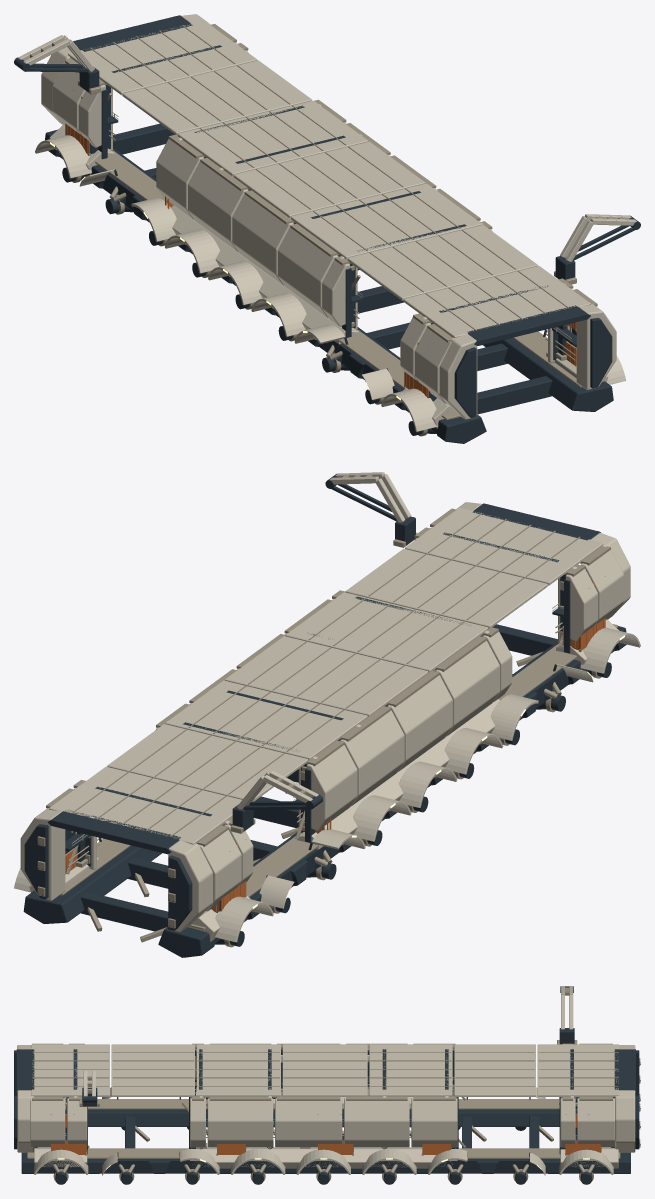
File: saltwind-gallery.glb
3 views of the same model, one above another, from view 1: azimuth 30°, elevation 25°; view 2: azimuth 150°, elevation 25°; view 3: azimuth 270°, elevation 25° (orthographic). The views are drawn at different scales.
Parts seen in each view (by area): view 1: nomad_saltwind_hull__warm_ivory_armour, nomad_saltwind_hull__navy_structural_steel, nomad_saltwind_hull__rubbed_warm_alloy, nomad_saltwind_hull__oxide_freight_enamel; view 2: nomad_saltwind_hull__warm_ivory_armour, nomad_saltwind_hull__navy_structural_steel, nomad_saltwind_hull__rubbed_warm_alloy, nomad_saltwind_hull__oxide_freight_enamel; view 3: nomad_saltwind_hull__warm_ivory_armour, nomad_saltwind_hull__navy_structural_steel, nomad_saltwind_hull__rubbed_warm_alloy, nomad_saltwind_hull__oxide_freight_enamel.
Boxes of the visible parts, x1=… form: nomad_saltwind_hull__warm_ivory_armour: x1=18, y1=14, x2=636, y2=431; nomad_saltwind_hull__navy_structural_steel: x1=14, y1=15, x2=640, y2=443; nomad_saltwind_hull__rubbed_warm_alloy: x1=27, y1=24, x2=627, y2=436; nomad_saltwind_hull__oxide_freight_enamel: x1=65, y1=96, x2=576, y2=398; nomad_saltwind_hull__warm_ivory_armour: x1=14, y1=472, x2=640, y2=942; nomad_saltwind_hull__navy_structural_steel: x1=23, y1=473, x2=626, y2=957; nomad_saltwind_hull__rubbed_warm_alloy: x1=37, y1=474, x2=618, y2=947; nomad_saltwind_hull__oxide_freight_enamel: x1=65, y1=584, x2=605, y2=912; nomad_saltwind_hull__warm_ivory_armour: x1=17, y1=986, x2=635, y2=1175; nomad_saltwind_hull__navy_structural_steel: x1=14, y1=986, x2=640, y2=1184; nomad_saltwind_hull__rubbed_warm_alloy: x1=27, y1=987, x2=640, y2=1181; nomad_saltwind_hull__oxide_freight_enamel: x1=51, y1=1097, x2=601, y2=1154.
Bounding box in the file's own units: 316 × 161 × 745.
